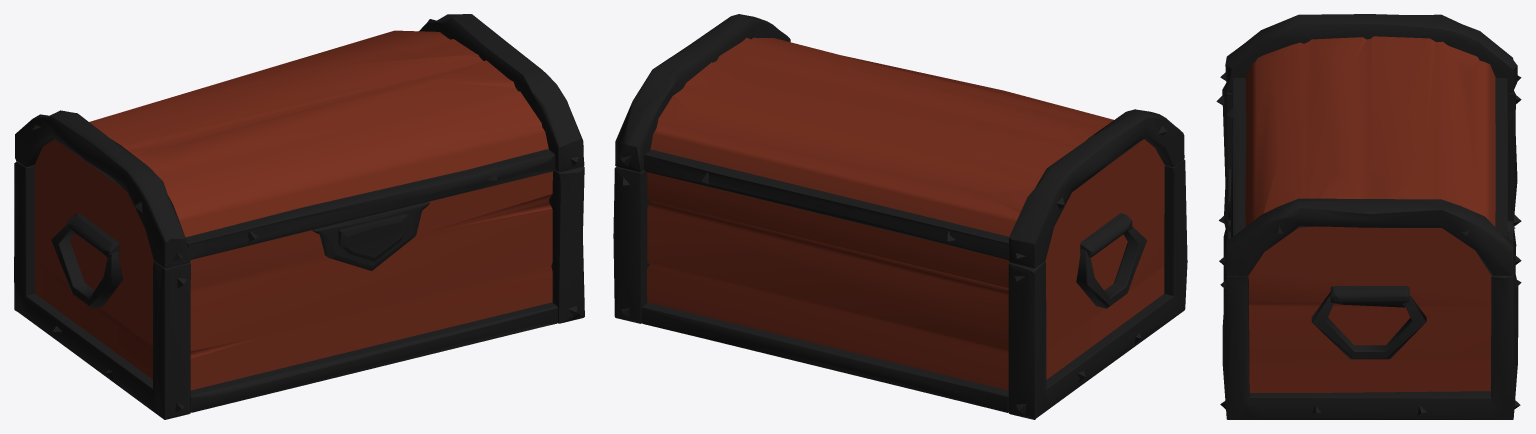
File: Env_Chest.fbx
3 renders of one model, left to right at view 1: azimuth 30°, elevation 25°; view 2: azimuth 150°, elevation 25°; view 3: azimuth 270°, elevation 25°, orthographic. The views are drawn at different scales.
Parts seen in each view (by area): view 1: Chest_BottomHalf, Chest_TopHalf; view 2: Chest_BottomHalf, Chest_TopHalf; view 3: Chest_TopHalf, Chest_BottomHalf.
Boxes of the visible parts, bbox=[...] form: Chest_BottomHalf: bbox=[14, 160, 584, 419]; Chest_TopHalf: bbox=[15, 14, 584, 268]; Chest_BottomHalf: bbox=[613, 159, 1187, 419]; Chest_TopHalf: bbox=[615, 14, 1184, 268]; Chest_TopHalf: bbox=[1219, 14, 1521, 276]; Chest_BottomHalf: bbox=[1216, 83, 1521, 419].
Bounding box in the file's own units: 2.14 × 1.06 × 1.37.
